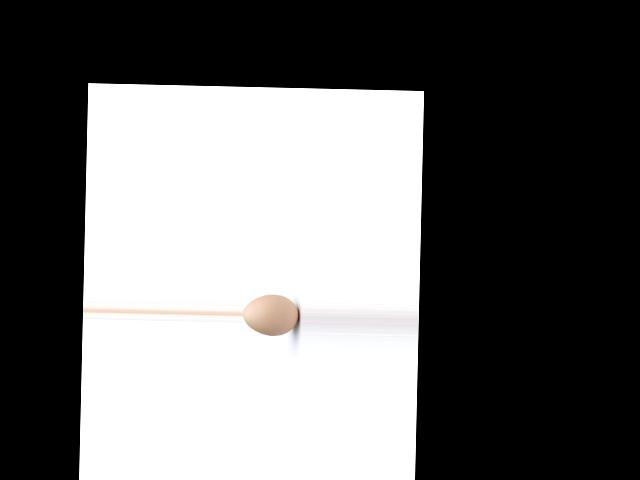egg: (243, 294, 299, 336)
